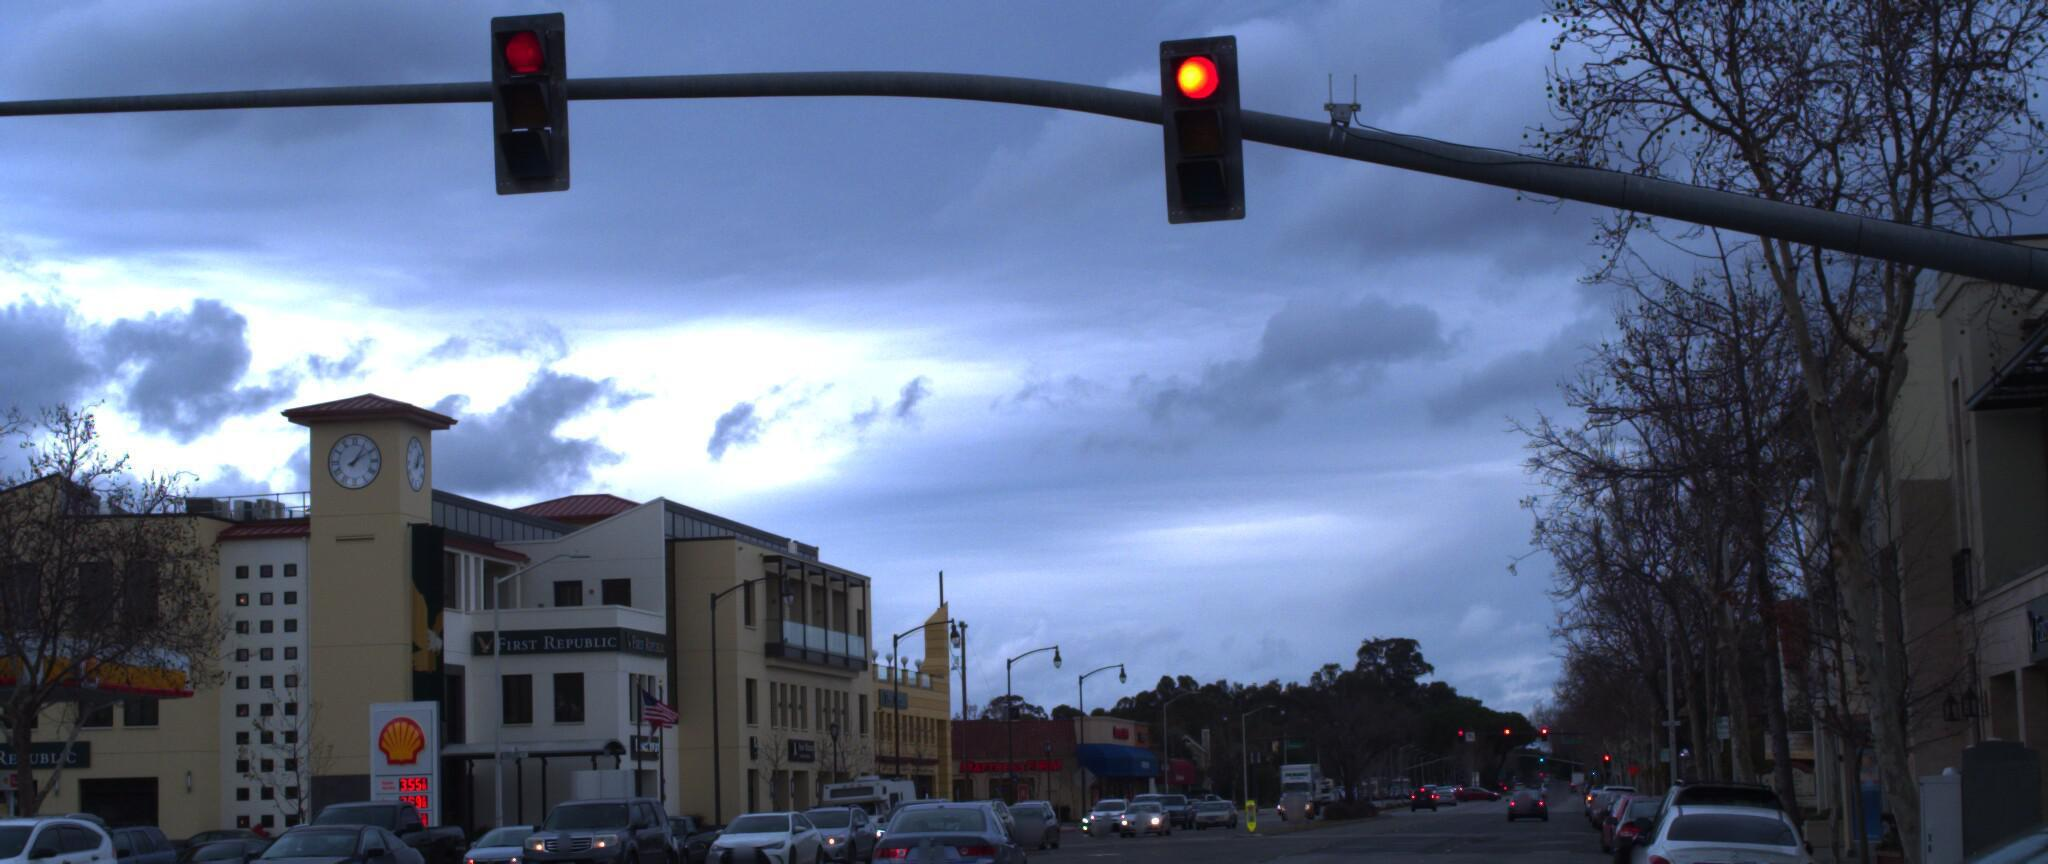car: (1719, 758, 2048, 864), (1603, 794, 1823, 864), (849, 799, 1063, 864), (502, 795, 687, 864), (188, 820, 449, 864), (312, 810, 521, 864), (0, 816, 189, 864), (0, 801, 133, 864), (1591, 797, 1707, 864), (687, 807, 818, 864), (441, 817, 583, 864), (135, 835, 300, 864), (0, 814, 37, 864)
